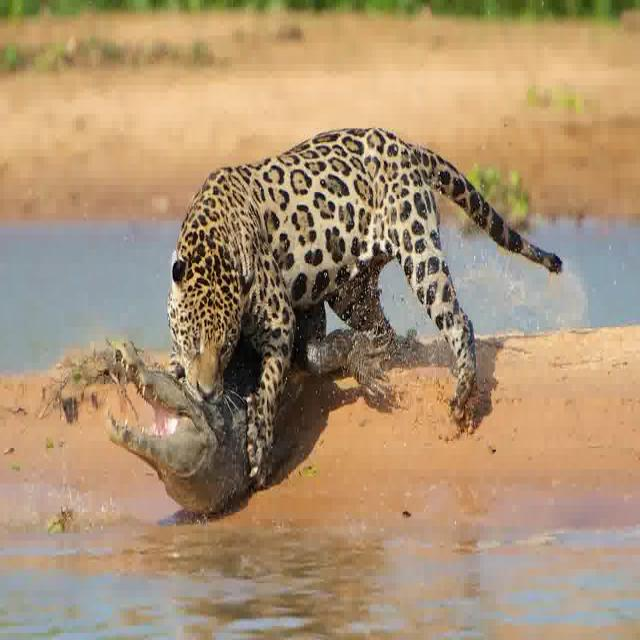Jaguar: (155, 122, 567, 434)
